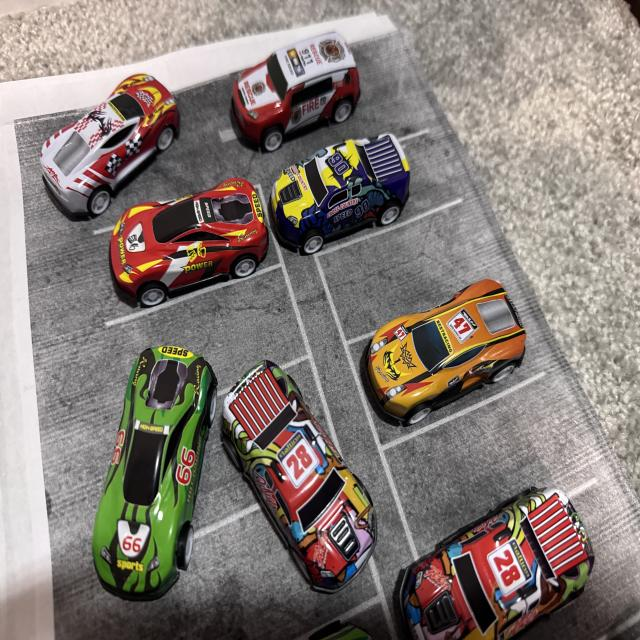Car: (81, 330, 240, 640), (371, 247, 576, 442), (221, 296, 366, 566), (399, 489, 629, 640), (49, 62, 174, 225), (218, 26, 358, 160), (133, 194, 268, 293), (274, 138, 384, 234)
